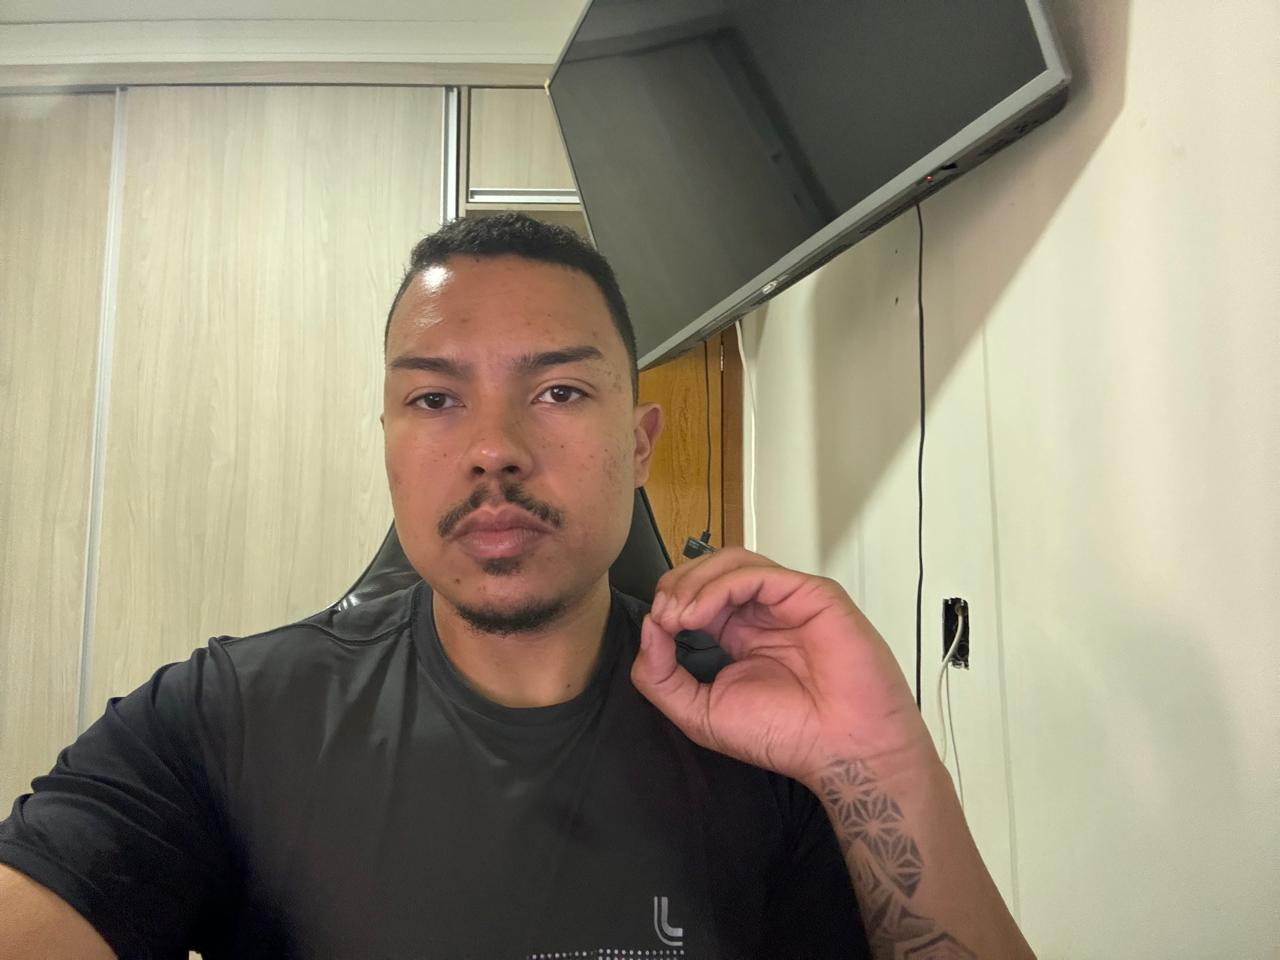o: (619, 537, 927, 794)
